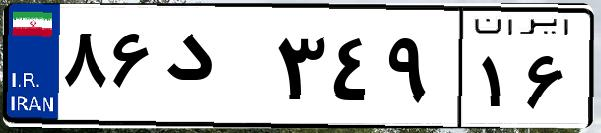1: (475, 38, 525, 113)
3: (270, 28, 330, 110)
4: (330, 28, 385, 110)
6: (525, 38, 570, 115), (110, 28, 158, 98)
8: (57, 26, 110, 100)
9: (385, 28, 445, 110)
د: (158, 20, 270, 120)
